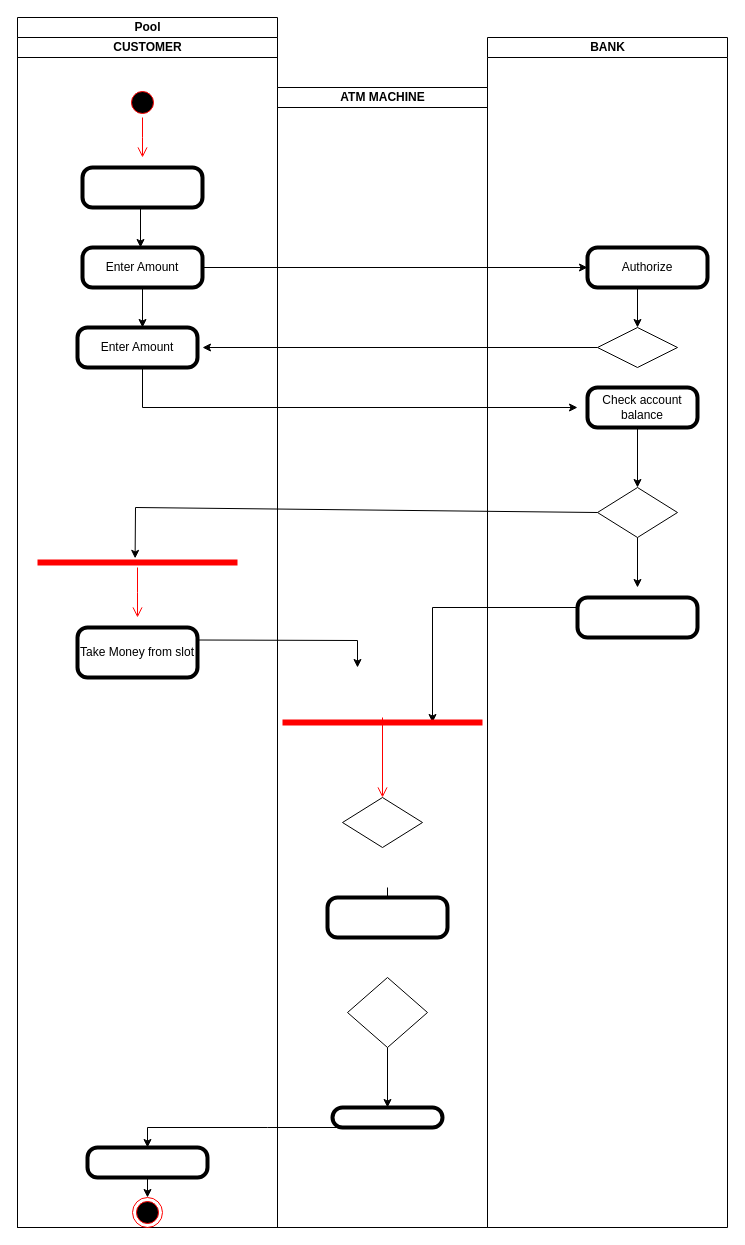
The diagram is 745 pixels wide and 1245 high, and some of its shapes have lost their labels. The shapes that lost their labels are listed below. From the top down, each one's centre as x and y in pixels, then its label:
point 142,187: Insert Card
point 637,617: Debit account
point 387,917: Show balance
point 387,1117: Eject Card
point 147,1162: Take card
